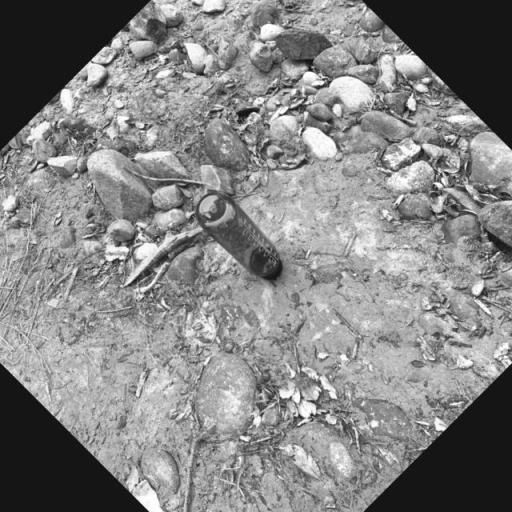bottle: (186, 182, 294, 289)
